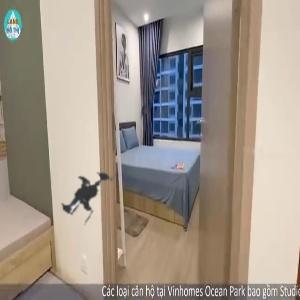drone: (26, 136, 139, 249)
